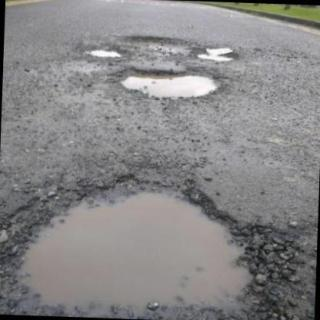pothole: (0, 178, 292, 320), (120, 68, 223, 98), (85, 48, 128, 62), (198, 48, 235, 64)
